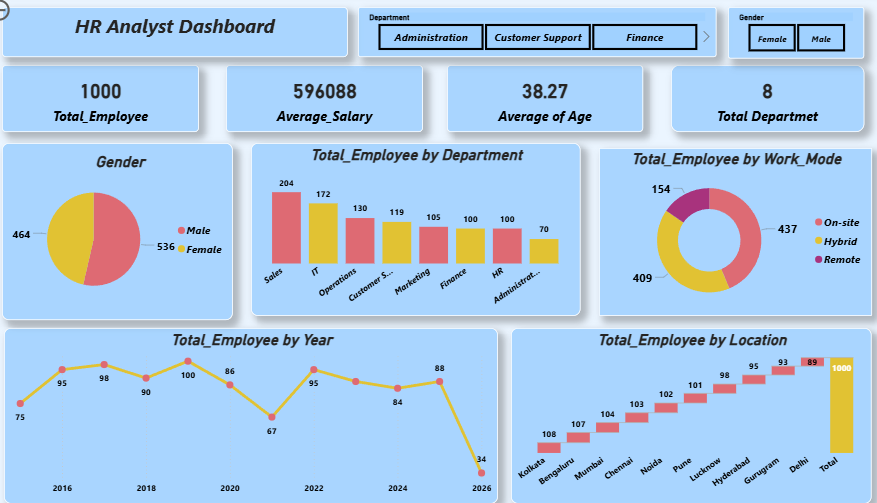

What the dashboard file says about the page in this screenshot:
{"tool":"powerbi","page":{"name":"Page 1","canvas":[1280,720],"ordinal":0},"visuals":[{"type":"card","fields":{"Values":["HR_Data.Total_Employee"]},"box":[24.5,97.9,279.4,95],"z":0},{"type":"card","fields":{"Values":["Avg(HR_Data.Annual_Salary)"]},"box":[341.6,97.8,279.2,95],"z":1000},{"type":"card","fields":{"Values":["Avg(HR_Data.Age)"]},"box":[655.2,97.9,277.9,95],"z":2000},{"type":"card","fields":{"Values":["Count(HR_Data.Department)"]},"box":[972,97.9,273.6,95],"z":3000},{"type":"pieChart","title":"Gender","fields":{"Category":["HR_Data.Gender"],"Y":["HR_Data.Total_Employee"]},"box":[24.5,208.8,326.9,250.6],"z":4000},{"type":"columnChart","fields":{"Category":["HR_Data.Department"],"Y":["HR_Data.Total_Employee"]},"box":[377.3,208.8,466.6,244.8],"z":5000},{"type":"donutChart","fields":{"Category":["HR_Data.Work_Mode"],"Y":["HR_Data.Total_Employee"]},"box":[869.8,216,387.4,237.6],"z":6000},{"type":"lineChart","fields":{"Category":["HR_Data.Joining_Date.Variation.Date Hierarchy.Year"],"Y":["HR_Data.Total_Employee"]},"box":[27.4,470.9,699.8,249.1],"z":7000},{"type":"waterfallChart","fields":{"Category":["HR_Data.Location"],"Y":["HR_Data.Total_Employee"]},"box":[745.9,470.9,511.2,249.1],"z":8000},{"type":"textbox","box":[24.5,15.8,489.6,70.6],"z":9000},{"type":"actionButton","box":[0,0,100,40],"z":10000},{"type":"slicer","fields":{"Values":["HR_Data.Department"]},"box":[528.5,15.8,508.3,70.6],"z":11000},{"type":"slicer","fields":{"Values":["HR_Data.Gender"]},"box":[1052.6,15.8,193,73.4],"z":12000}]}

Visuals, with their boxes in screenshot pixels (x1, y1, x2, y2), scaled from the page's 1280x720 canvas onto the 877x503 screenshot:
card - HR_Data.Total_Employee: region(17, 68, 208, 135)
card - Avg(HR_Data.Annual_Salary): region(234, 68, 425, 135)
card - Avg(HR_Data.Age): region(449, 68, 639, 135)
card - Count(HR_Data.Department): region(666, 68, 853, 135)
"Gender" pieChart: region(17, 146, 241, 321)
columnChart - HR_Data.Department x HR_Data.Total_Employee: region(259, 146, 578, 317)
donutChart - HR_Data.Work_Mode x HR_Data.Total_Employee: region(596, 151, 861, 317)
lineChart - HR_Data.Joining_Date.Variation.Date Hierarchy.Year x HR_Data.Total_Employee: region(19, 329, 498, 502)
waterfallChart - HR_Data.Location x HR_Data.Total_Employee: region(511, 329, 861, 502)
textbox: region(17, 11, 352, 60)
actionButton: region(0, 0, 69, 28)
slicer - HR_Data.Department: region(362, 11, 710, 60)
slicer - HR_Data.Gender: region(721, 11, 853, 62)
